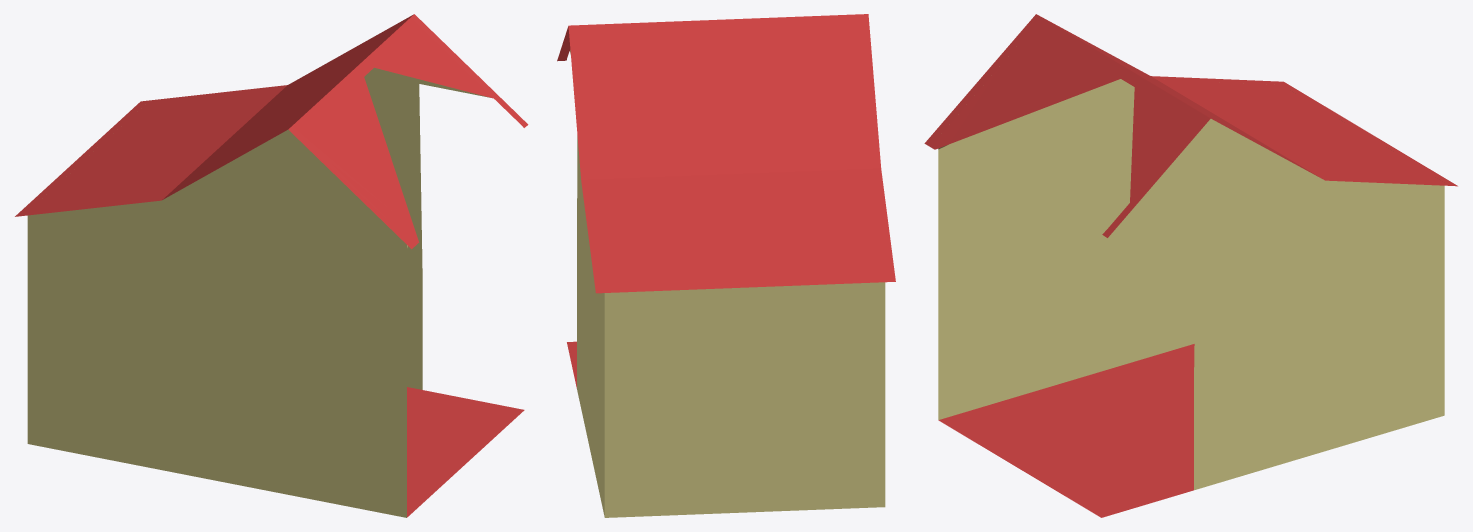
3 views of the same model, side by side, from view 1: azimuth 30°, elevation 25°; view 2: azimuth 150°, elevation 25°; view 3: azimuth 270°, elevation 25° (orthographic).
Bounding box in the file's own units: 12.52 × 13.5 × 10.38.
